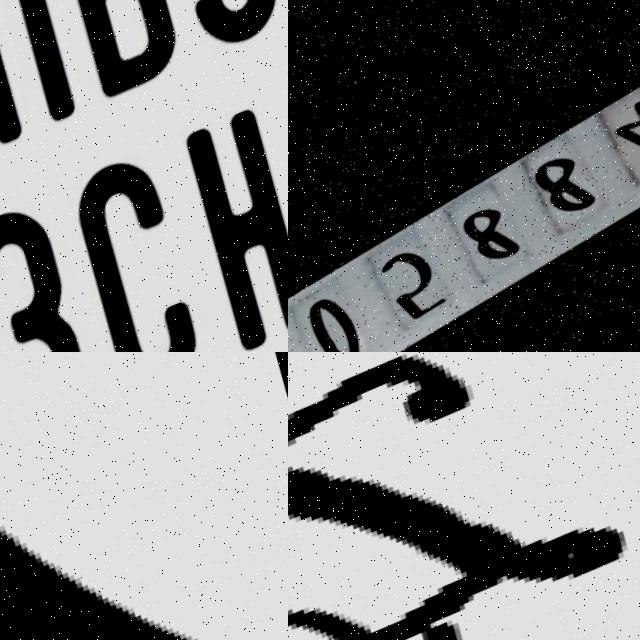0: (288, 281, 385, 352)
2: (136, 0, 288, 75)
3: (0, 194, 124, 352)
4: (597, 95, 640, 204)
5: (364, 233, 465, 352)
7: (0, 352, 288, 640)
8: (518, 141, 615, 258), (447, 195, 537, 303)
C: (59, 143, 224, 352)
H: (177, 113, 288, 352)
P: (31, 0, 195, 118)
U: (0, 0, 99, 161)
Z: (288, 352, 640, 640)
